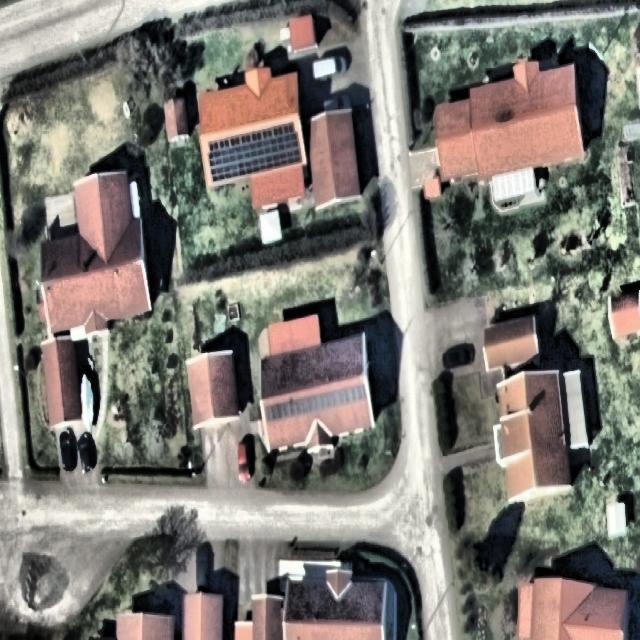roof_pv: (205, 121, 304, 187), (261, 379, 369, 424)
